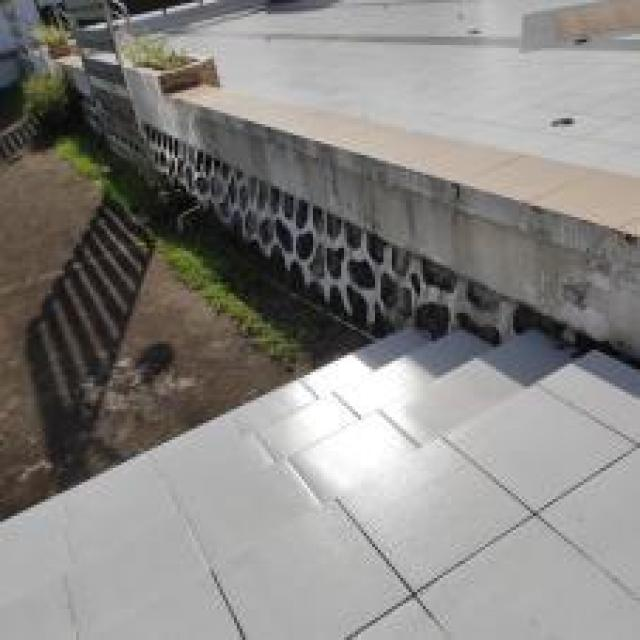downstair: (37, 328, 580, 638)
